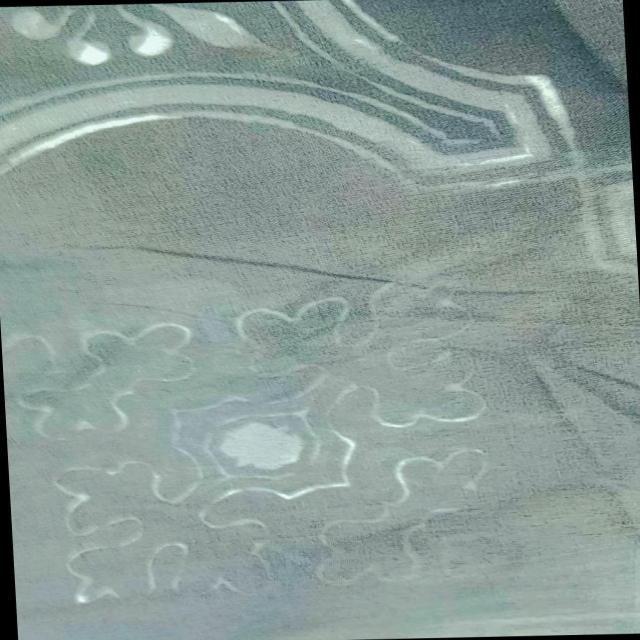baekra: (0, 271, 632, 640)
